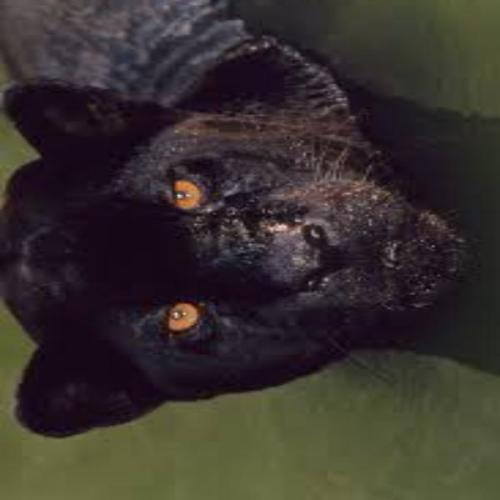panther-endangered: (0, 0, 500, 392)
